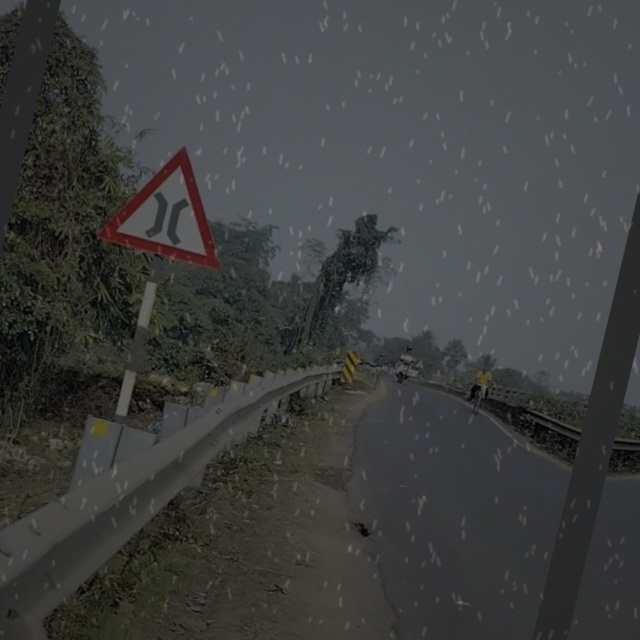Narrow_Bridge: (89, 129, 253, 278)
